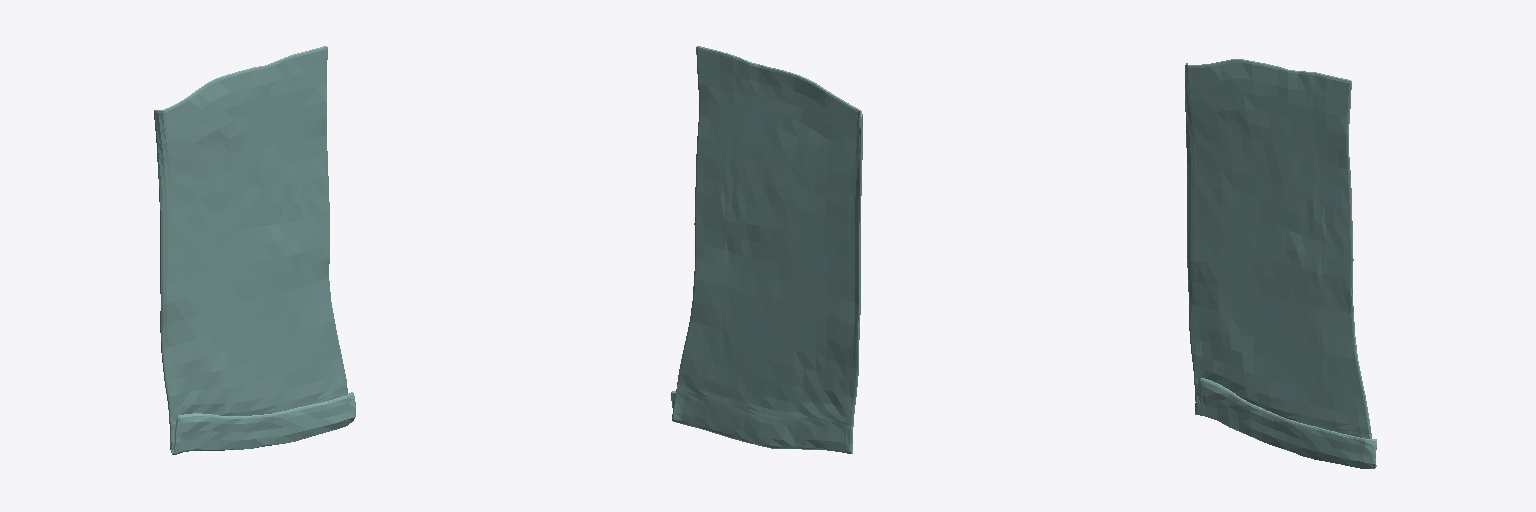
The picture shows the model from 3 angles: view 1: azimuth 30°, elevation 25°; view 2: azimuth 150°, elevation 25°; view 3: azimuth 330°, elevation 25°; orthographic projection.
Parts seen in each view (by area): view 1: Bed.002_Material.001; view 2: Bed.002_Material.001; view 3: Bed.002_Material.001.
Boxes of the visible parts, box(x1,y1,x2,y2) form: Bed.002_Material.001: box(154, 46, 355, 454); Bed.002_Material.001: box(671, 46, 862, 453); Bed.002_Material.001: box(1185, 59, 1376, 468).
Size of the model in its own units: 0.6953 by 1.31 by 0.058.
Materials: 1 (1 with a texture image).